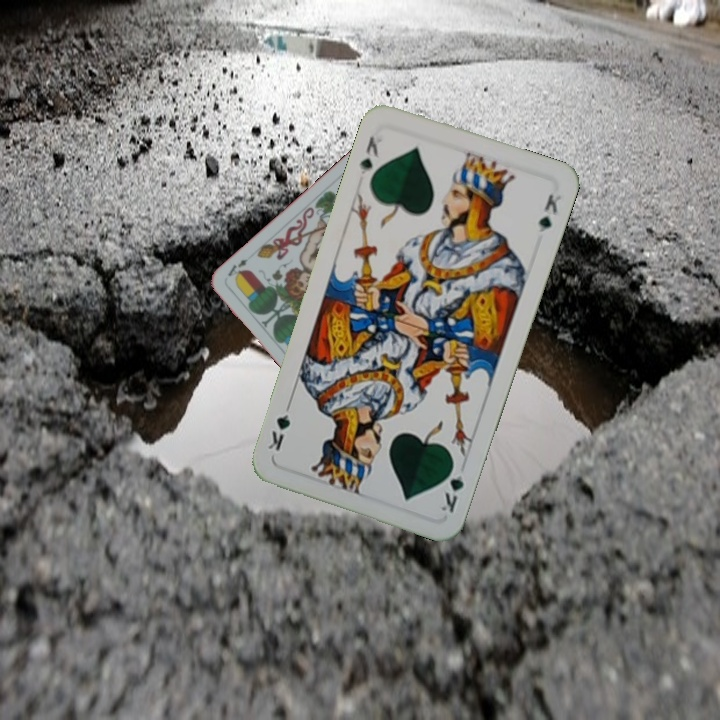GK: (437, 458, 467, 516), (356, 132, 385, 177)
